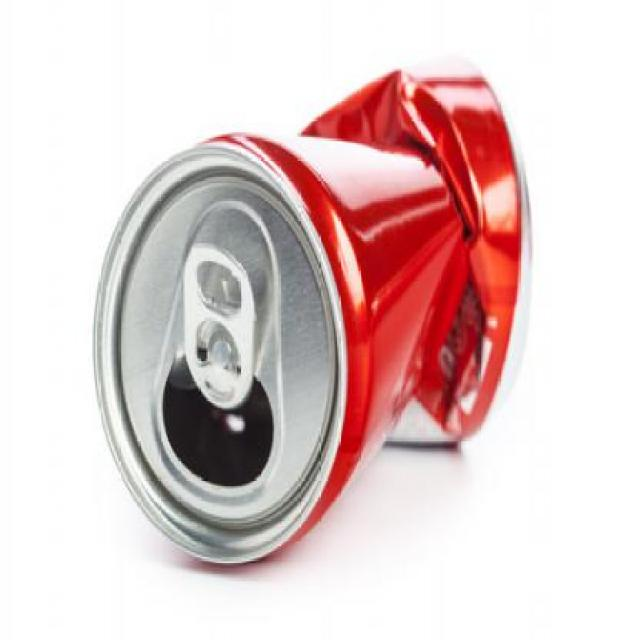non-organic waste: (86, 34, 551, 594)
